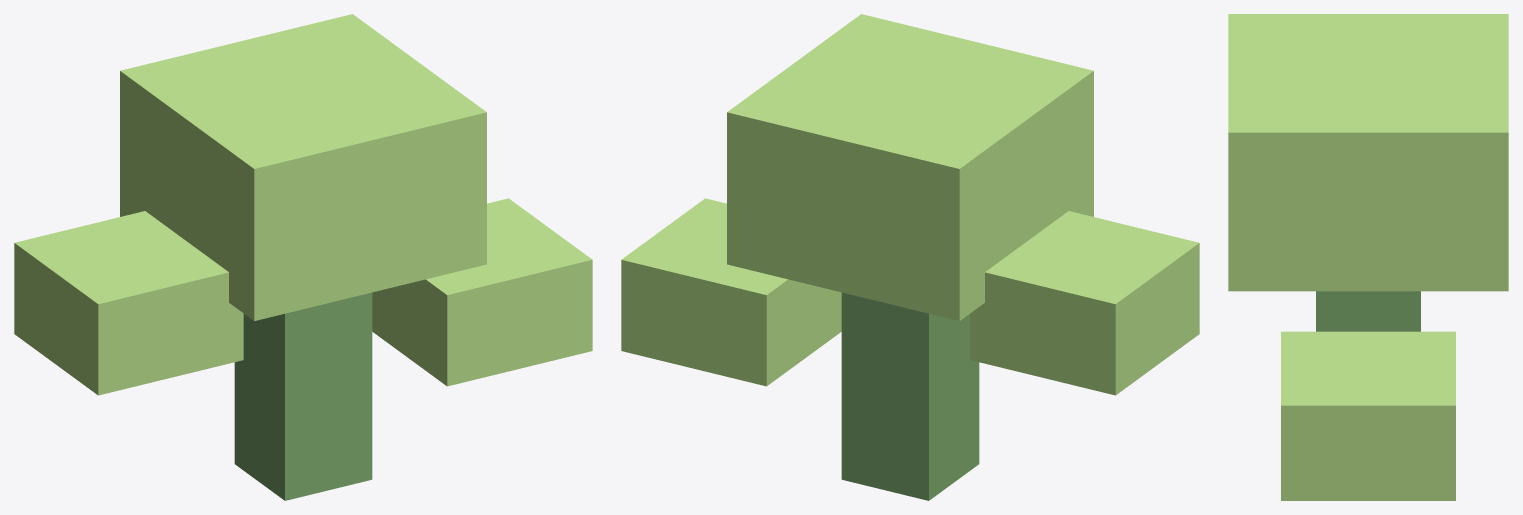
File: Prop_DS_Herb_DefragMoss_S1_V1.glb
The picture shows the model from 3 angles, left to right: view 1: azimuth 30°, elevation 25°; view 2: azimuth 150°, elevation 25°; view 3: azimuth 270°, elevation 25°; orthographic projection. The views are drawn at different scales.
Visible parts, largest first — view 1: Cube.003, Cube.002, Cube.001, Cube; view 2: Cube.003, Cube.002, Cube.001, Cube; view 3: Cube.003, Cube.001, Cube.
Part boxes in pixels (left/top/right/bottom): Cube.003: left=120, top=14, right=486, bottom=320; Cube.002: left=14, top=211, right=243, bottom=395; Cube.001: left=372, top=198, right=592, bottom=386; Cube: left=234, top=292, right=372, bottom=500; Cube.003: left=727, top=14, right=1093, bottom=320; Cube.002: left=970, top=211, right=1199, bottom=395; Cube.001: left=621, top=198, right=841, bottom=386; Cube: left=841, top=292, right=979, bottom=500; Cube.003: left=1228, top=14, right=1508, bottom=291; Cube.001: left=1281, top=331, right=1455, bottom=500; Cube: left=1316, top=291, right=1420, bottom=331.
Bounding box in the file's own units: 0.34 × 0.25 × 0.16.
